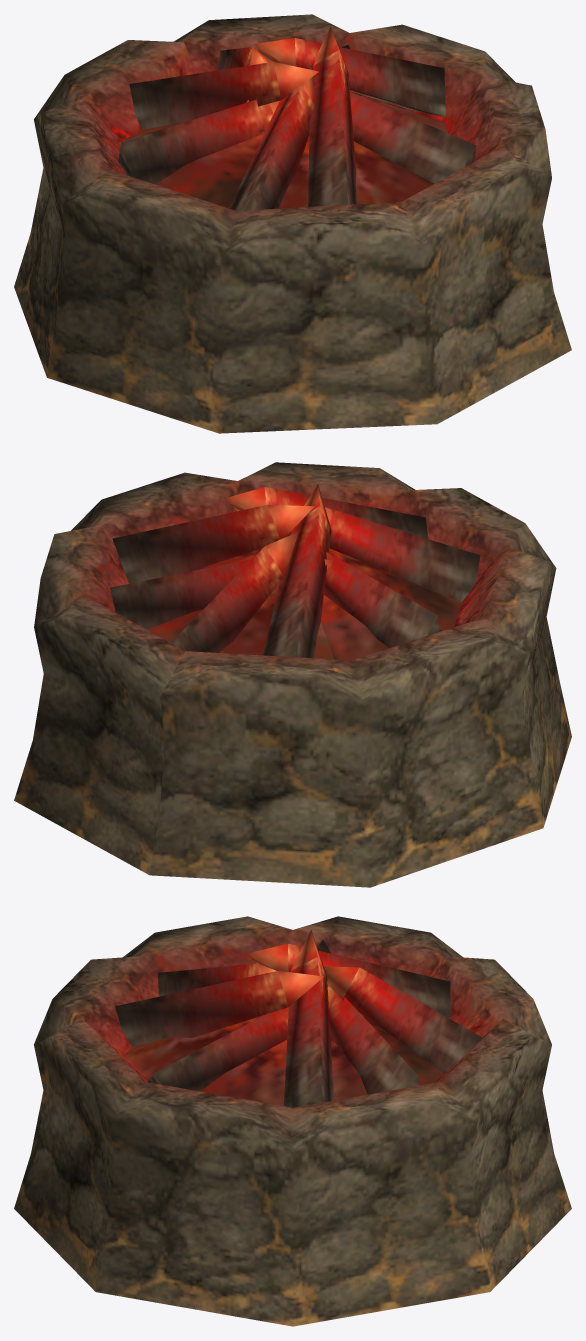
Rendered from togui_burner.glb.
The picture shows the model from 3 angles, top to bottom: view 1: azimuth 30°, elevation 25°; view 2: azimuth 150°, elevation 25°; view 3: azimuth 270°, elevation 25°; orthographic projection. The views are drawn at different scales.
Visible parts, largest first — view 1: togui_burner01; view 2: togui_burner01; view 3: togui_burner01.
Part boxes in pixels (x1,y1,x2,y2): togui_burner01: (14,14,571,433); togui_burner01: (14,462,571,887); togui_burner01: (14,916,571,1326).
Size of the model in its own units: 3.24 by 1.71 by 3.27.
Materials: 1 (1 with a texture image).
